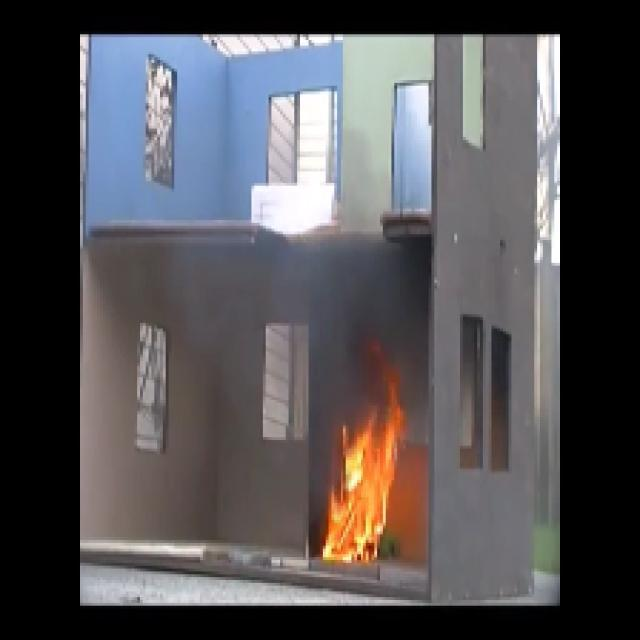Fire: (329, 390, 397, 563)
Smoke: (317, 236, 419, 340)
